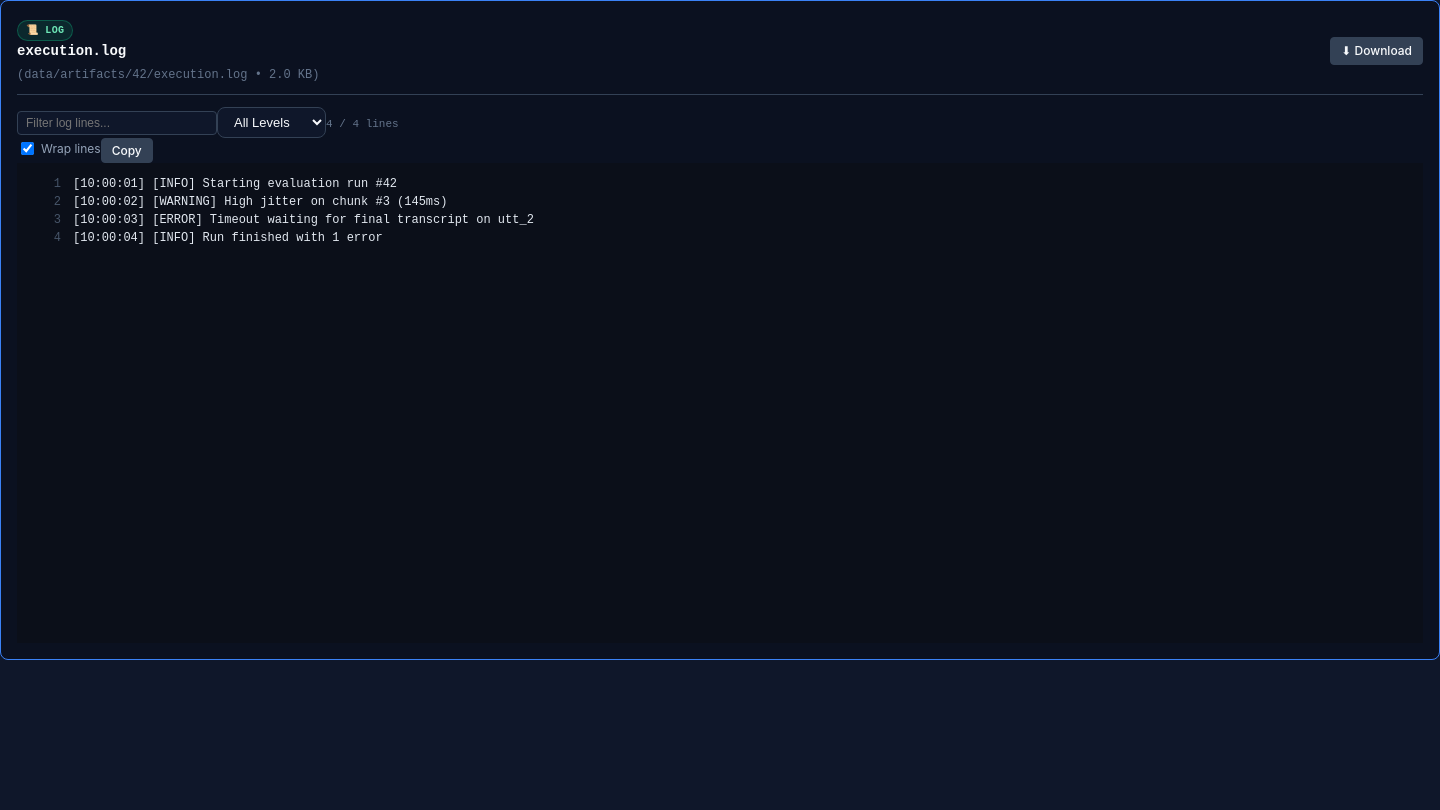
Test: TES-35 ArtifactViewer & RunArtifactsSection › renders log viewer with line numbers, level filter, and text search
The image size is (1440, 810).
Expected: the text with test id "log-viewer-line-count" reads "4 / 4 lines", [326, 118, 399, 130]
# Filter by ERROR level
Select "ERROR" in the dropdown with test id "artifact-log-level" at {"x": 272, "y": 122}, box [217, 107, 326, 138]
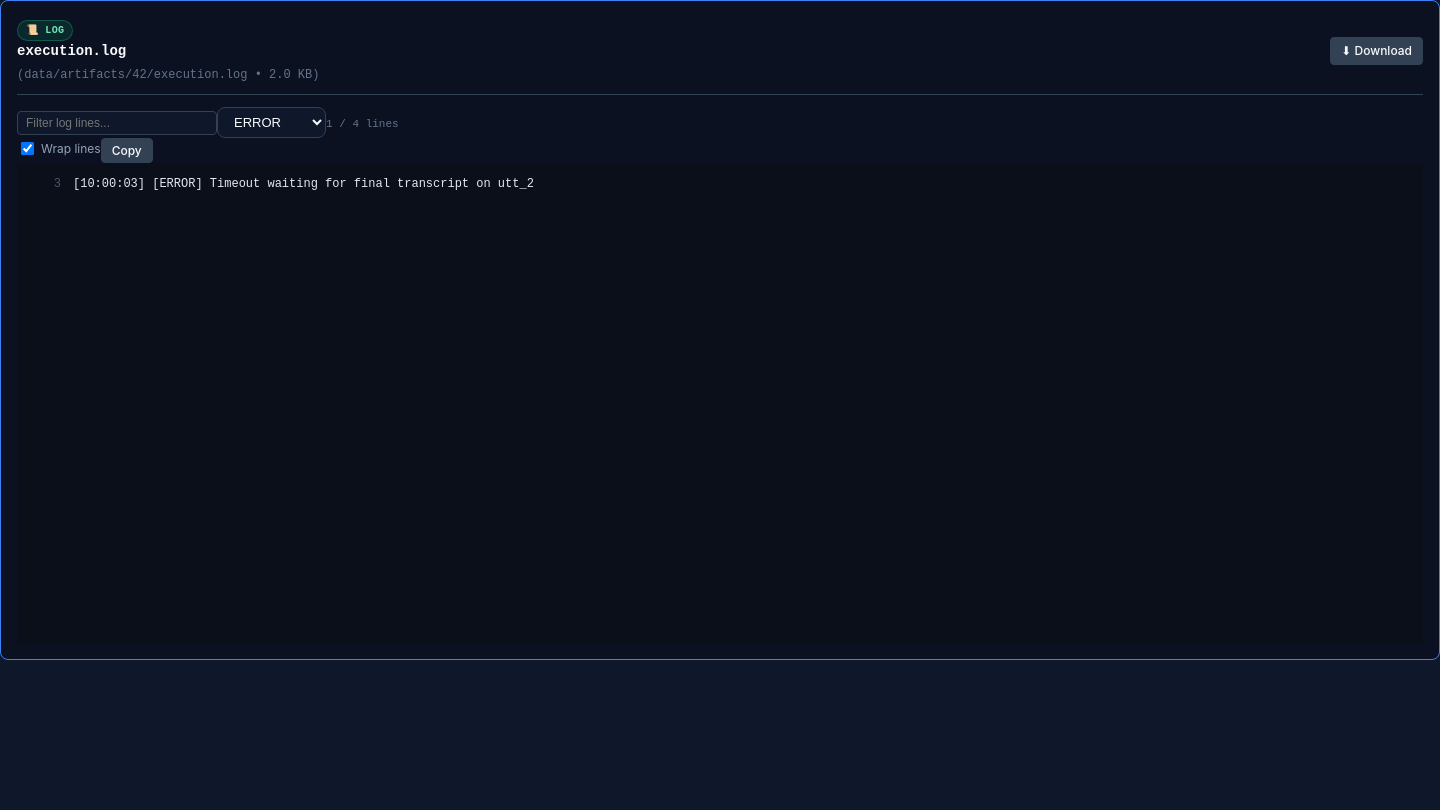
Expected: the element with test id "artifact-log-terminal" shows "Timeout waiting for final transcript on utt_2", [73, 177, 534, 191]
Result: the text with test id "log-viewer-line-count" reads "1 / 4 lines" at [326, 118, 399, 130]
# Reset level to ALL and filter by text query
Select "All Levels" in the dropdown with test id "artifact-log-level" at {"x": 272, "y": 122}, box [217, 107, 326, 138]
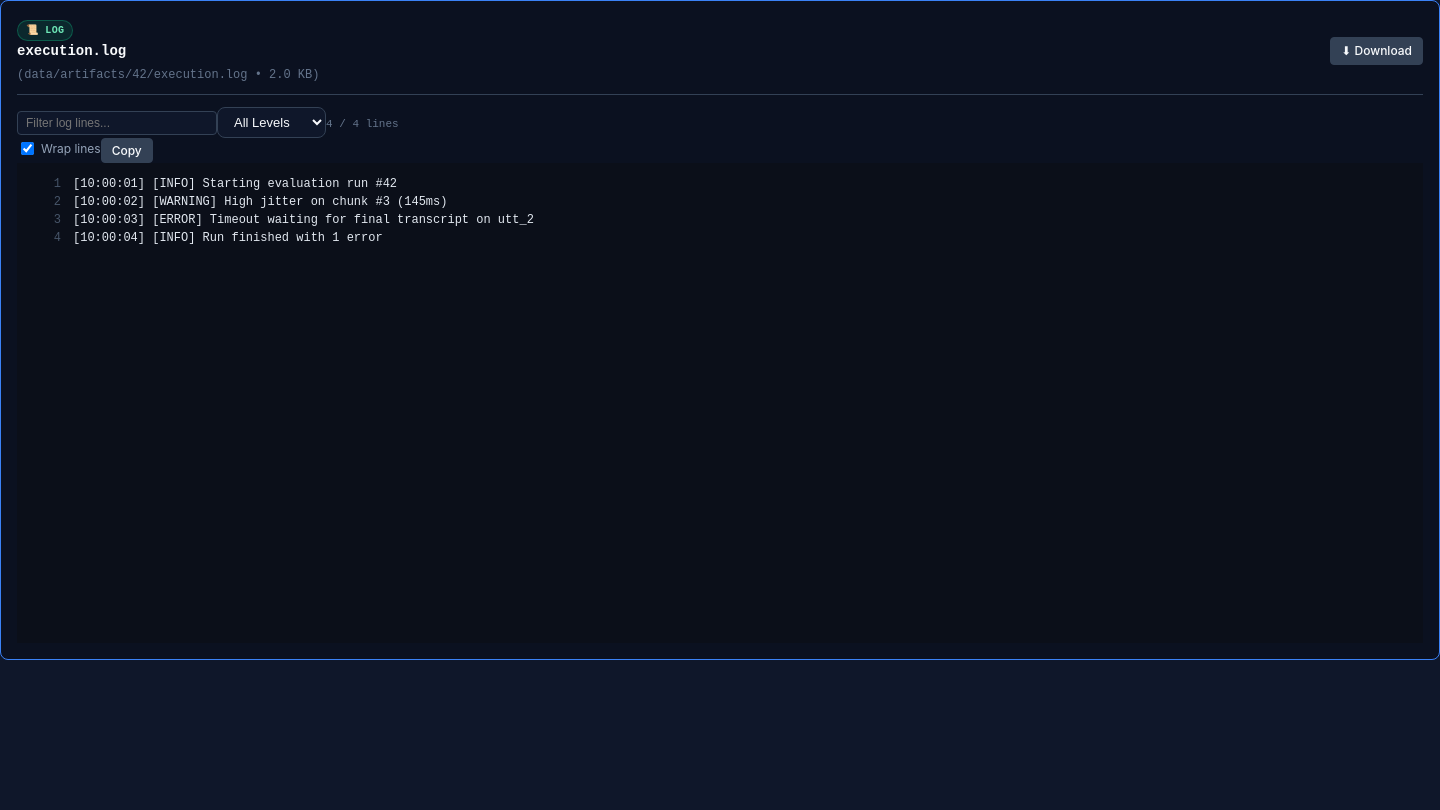
Type "jitter" into the field with test id "artifact-log-filter" at {"x": 117, "y": 123}, box [17, 111, 217, 135]
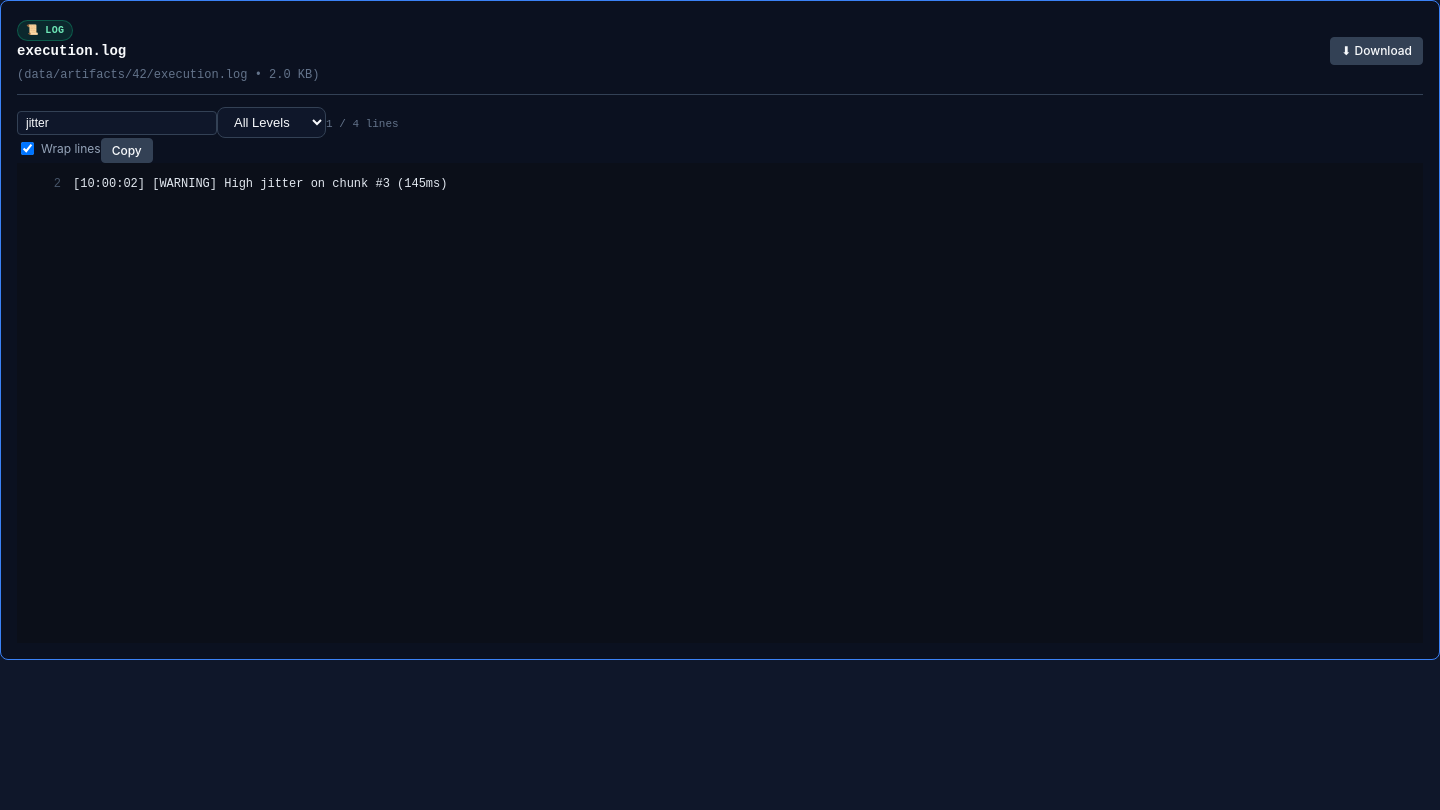
Result: the element with test id "artifact-log-terminal" shows "High jitter on chunk #3" at [73, 177, 448, 191]
Result: the text with test id "log-viewer-line-count" reads "1 / 4 lines" at [326, 118, 399, 130]
